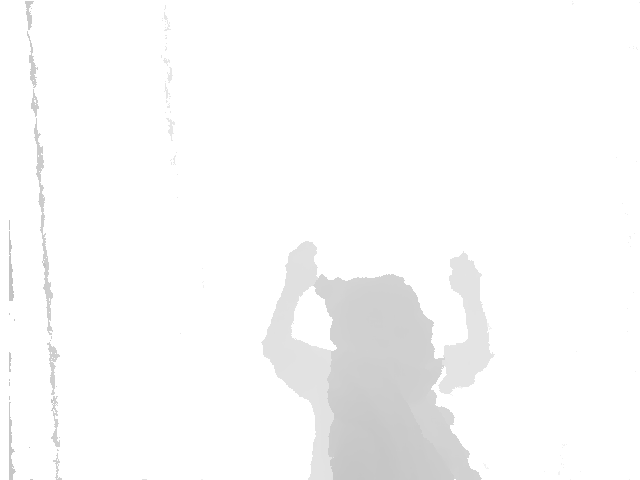hand: (283, 239, 319, 294), (448, 253, 483, 298)
head: (316, 274, 433, 358)
person: (261, 239, 494, 480), (316, 274, 483, 480)
